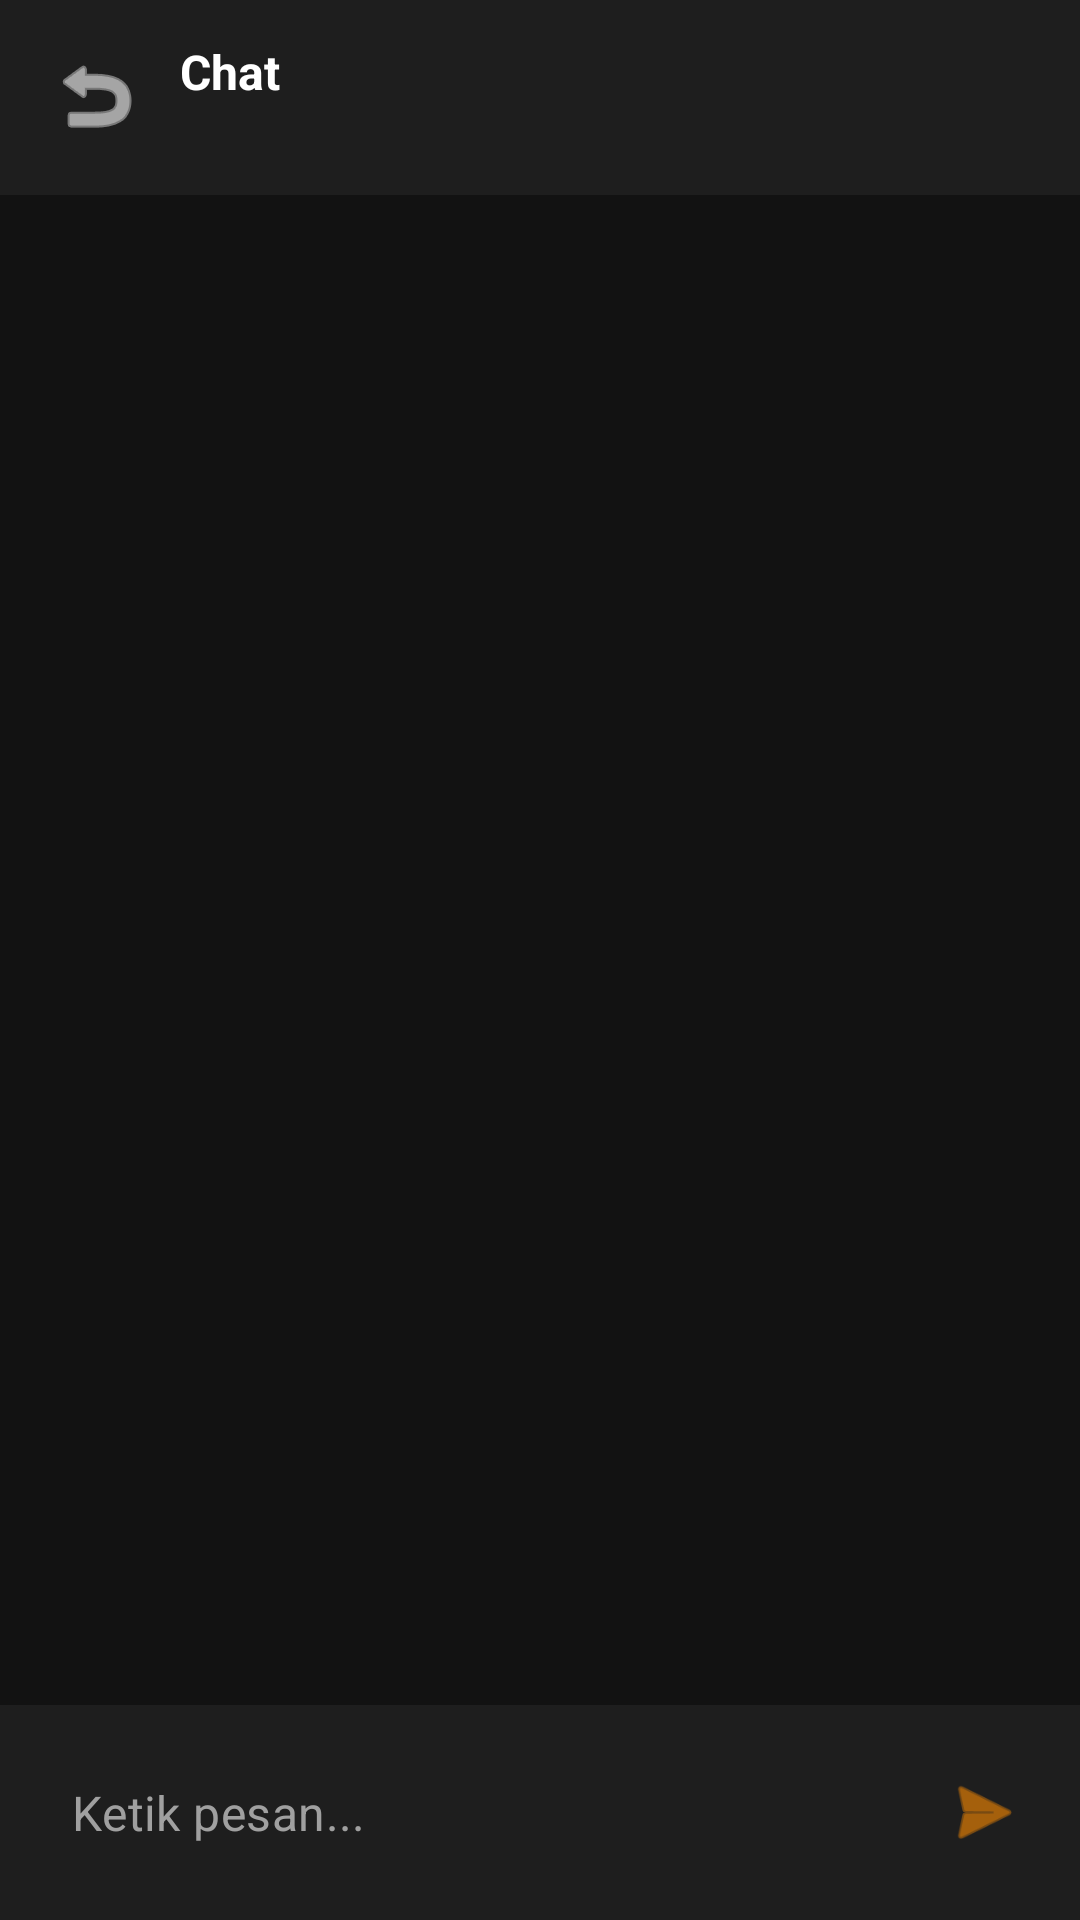

Screen size 1080×1920. Icon name, then its center in pixels as point (x, y):
revert: point (97, 96)
send: point (985, 1812)
